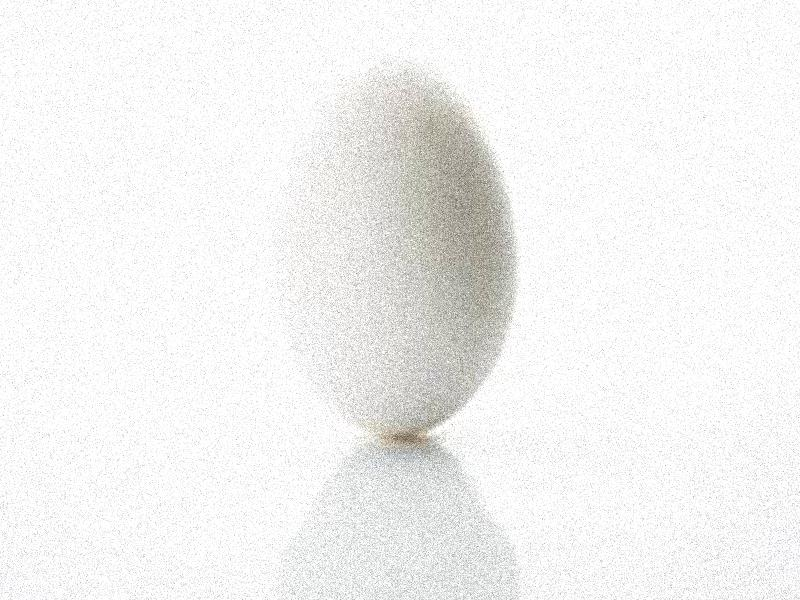Eggs: (281, 59, 517, 436)
